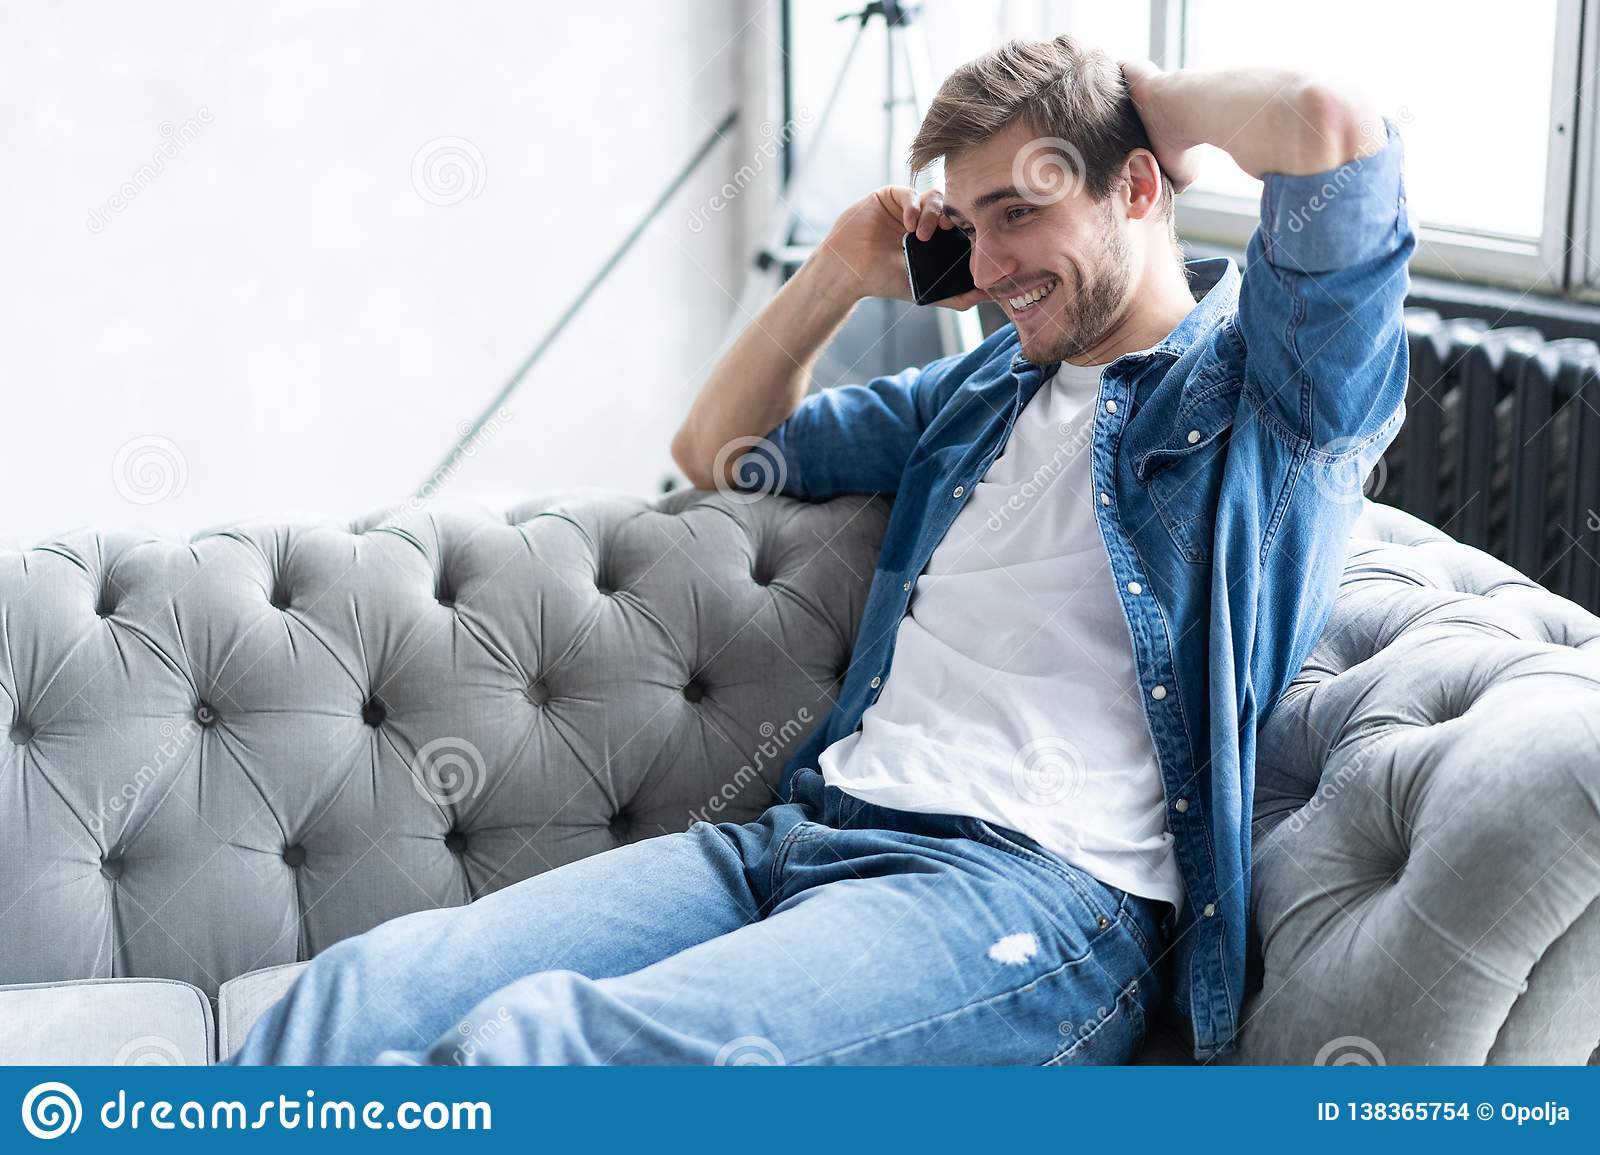phone: (901, 220, 976, 310)
talk: (819, 175, 1084, 356)
